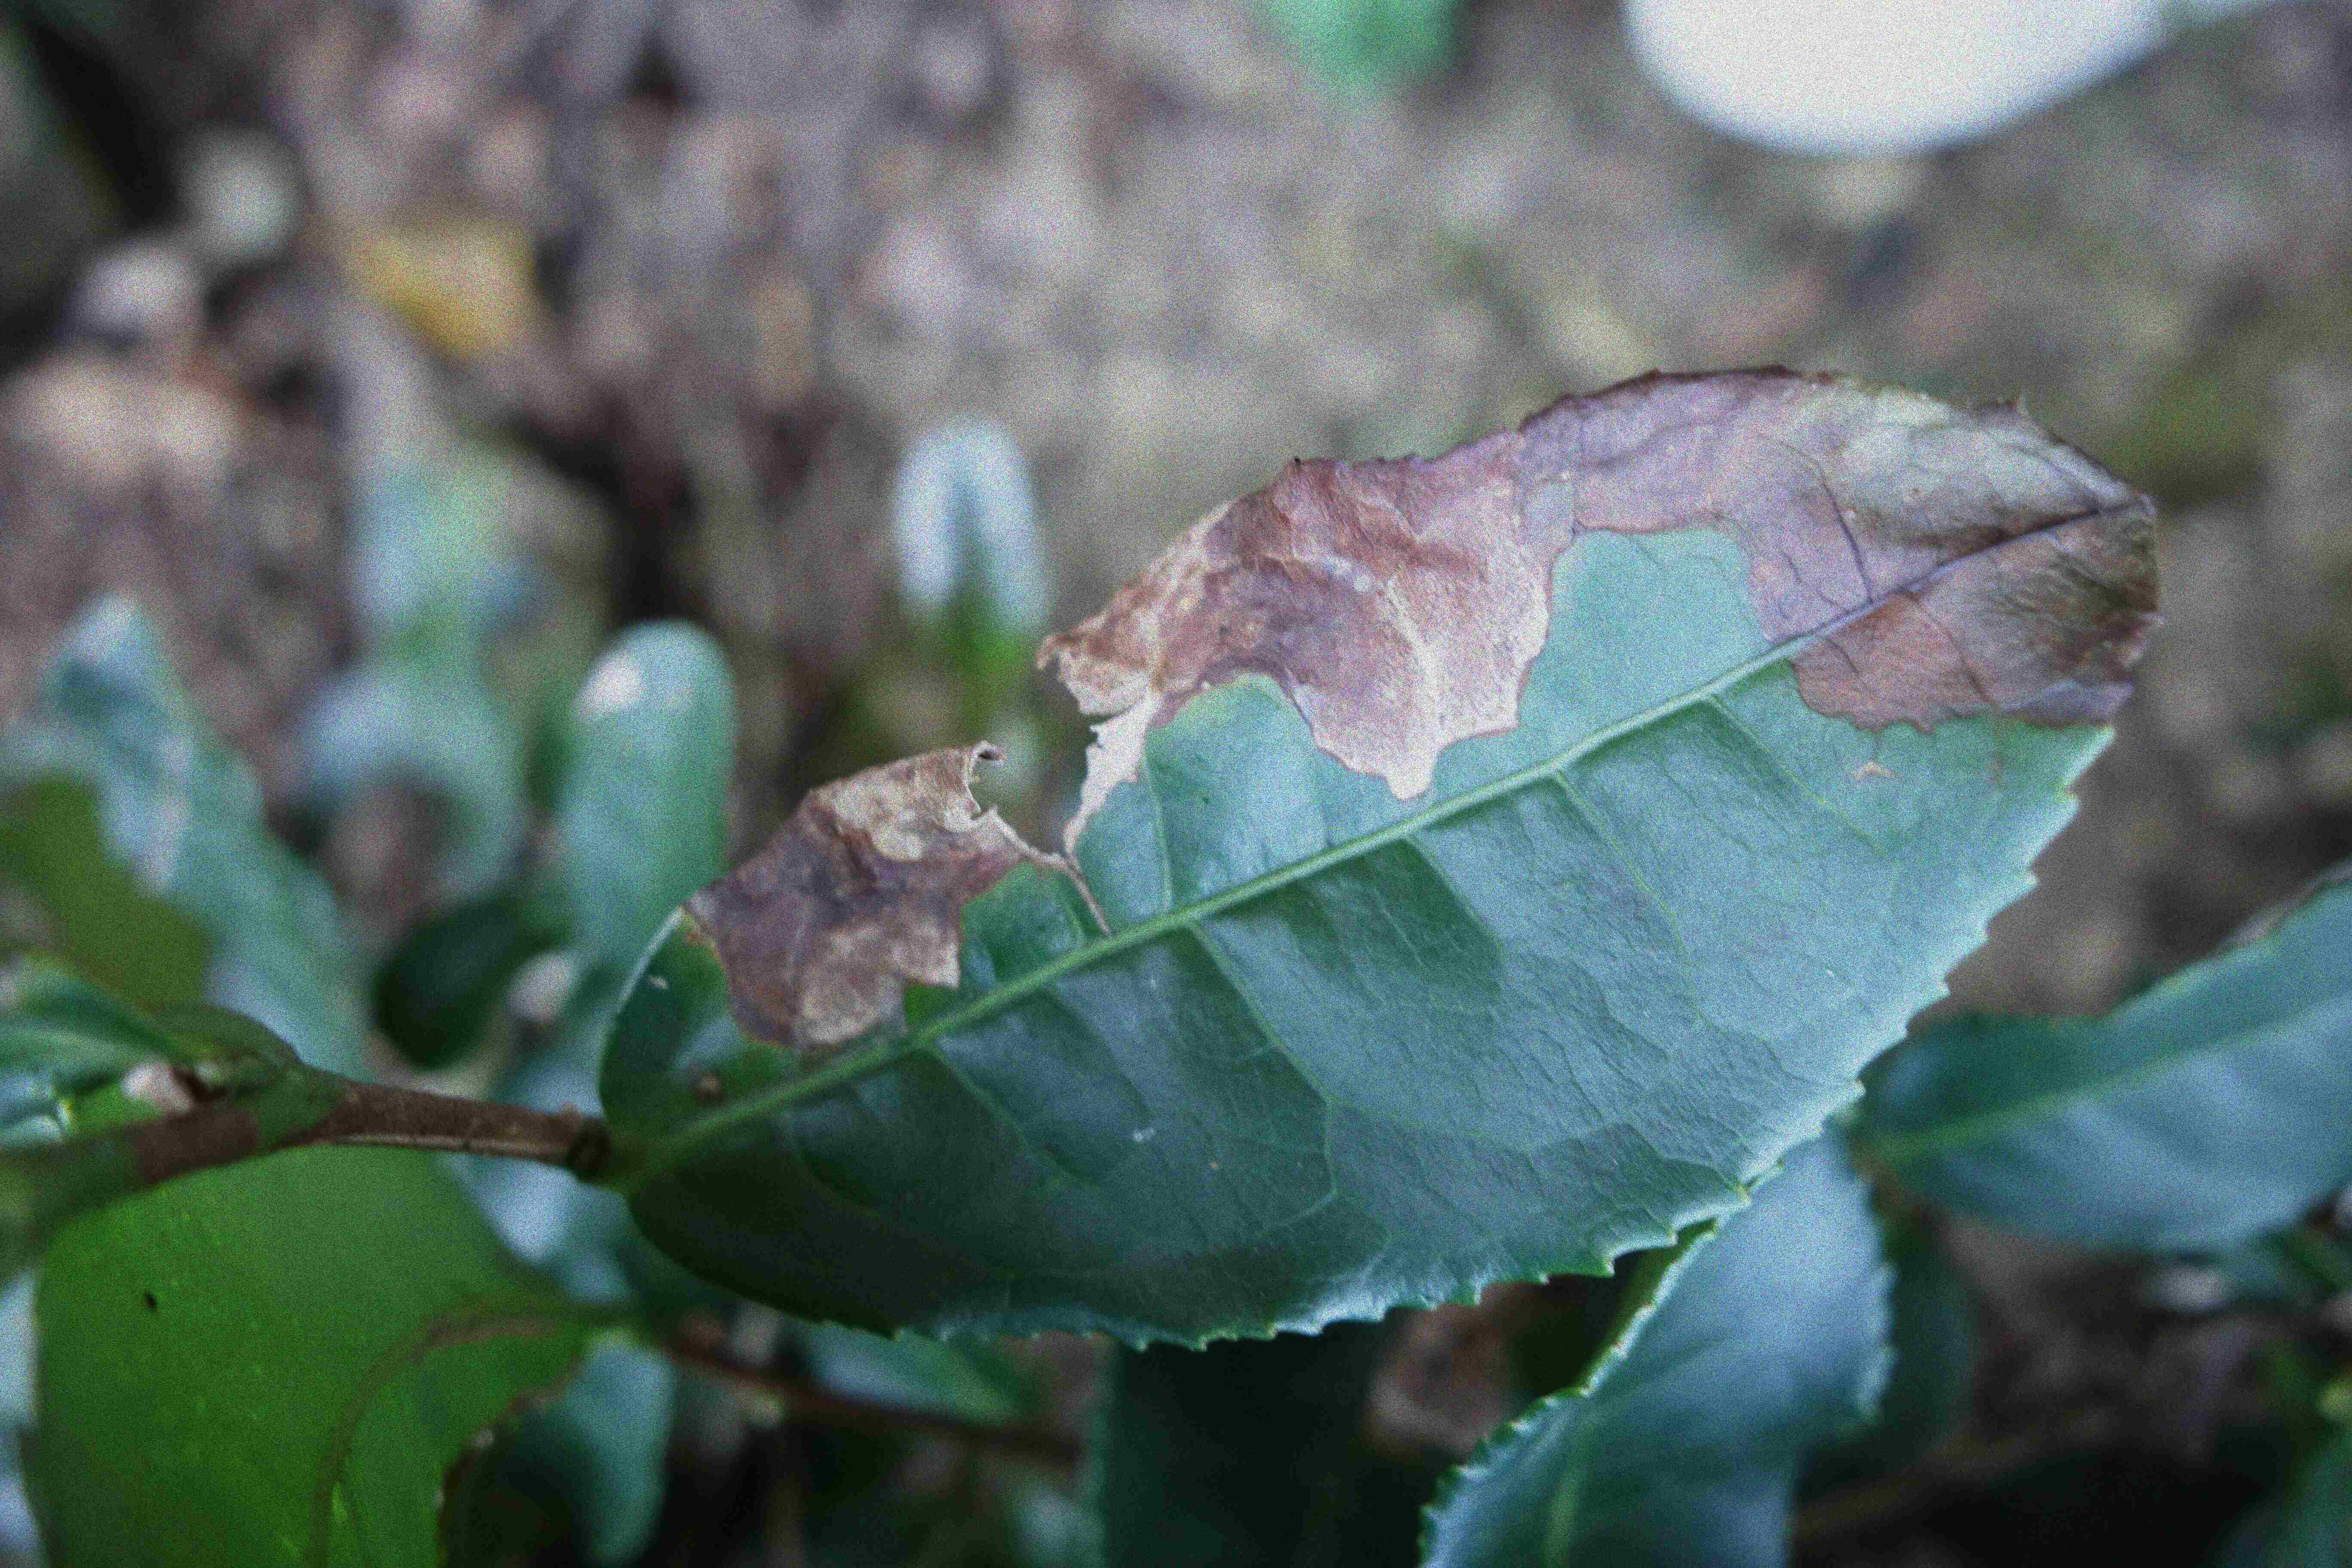tanju_high: (604, 366, 2161, 1354)
